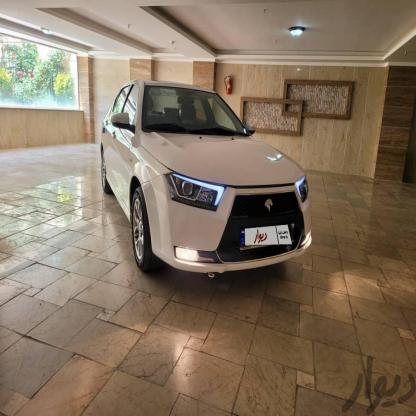Car: (96, 73, 319, 288)
